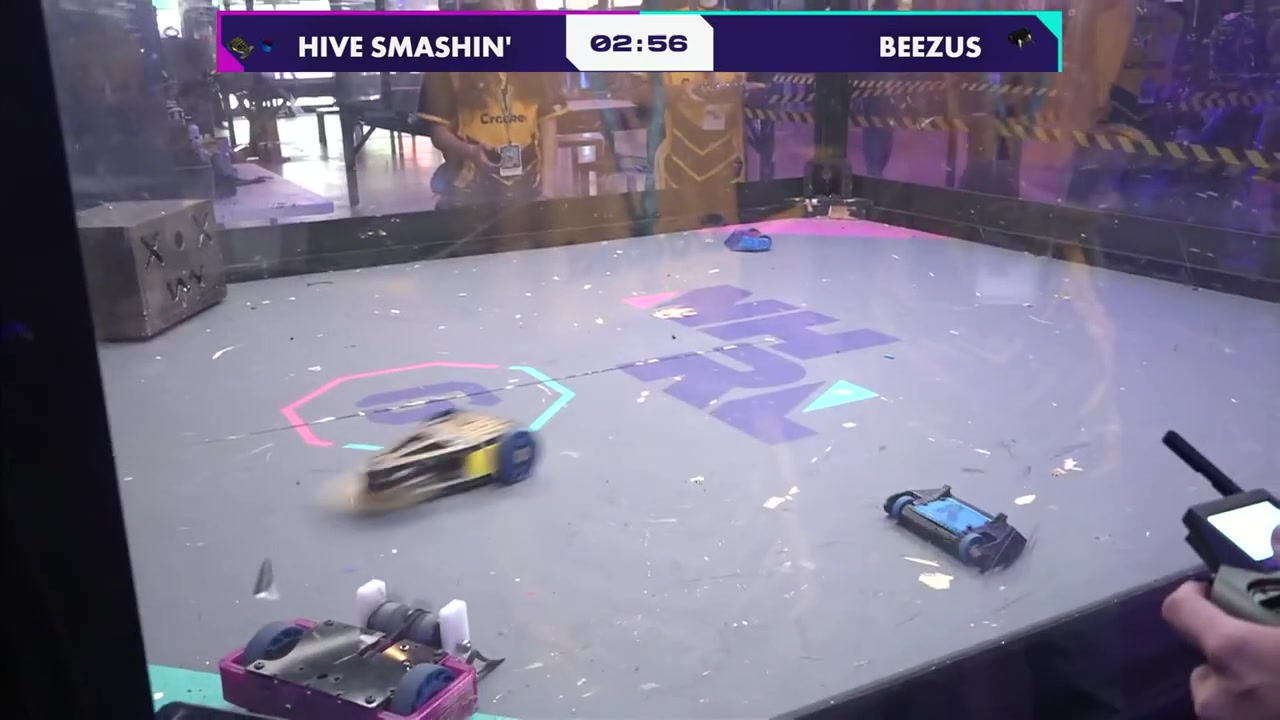combatbot: (224, 615, 480, 717), (362, 406, 537, 495), (883, 483, 1030, 577), (722, 230, 774, 253)
housebot: (79, 198, 227, 344)
